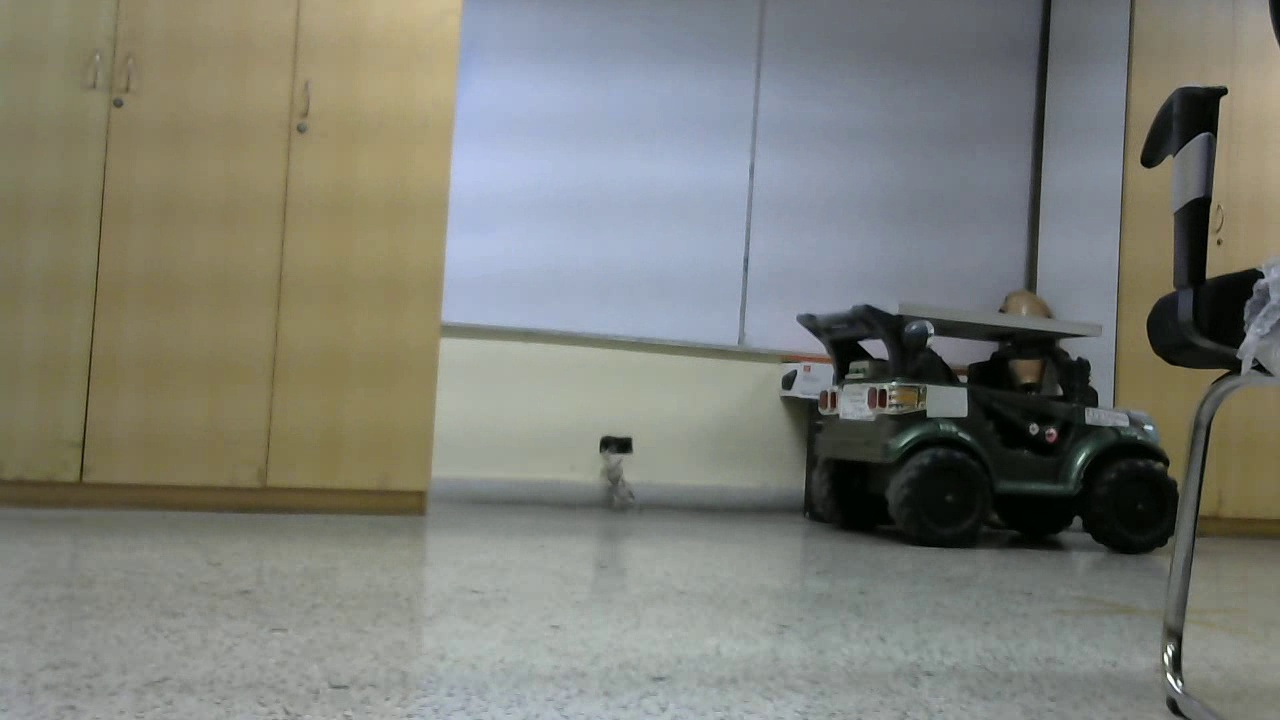chair: (546, 65, 829, 616)
